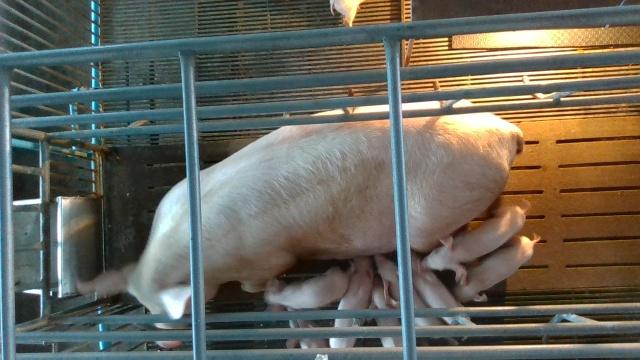piglet: (420, 198, 531, 273), (452, 235, 539, 303), (375, 252, 444, 325), (412, 249, 471, 326), (264, 260, 355, 309), (328, 255, 374, 347), (368, 275, 402, 347)
sow-sit: (77, 96, 524, 347)
